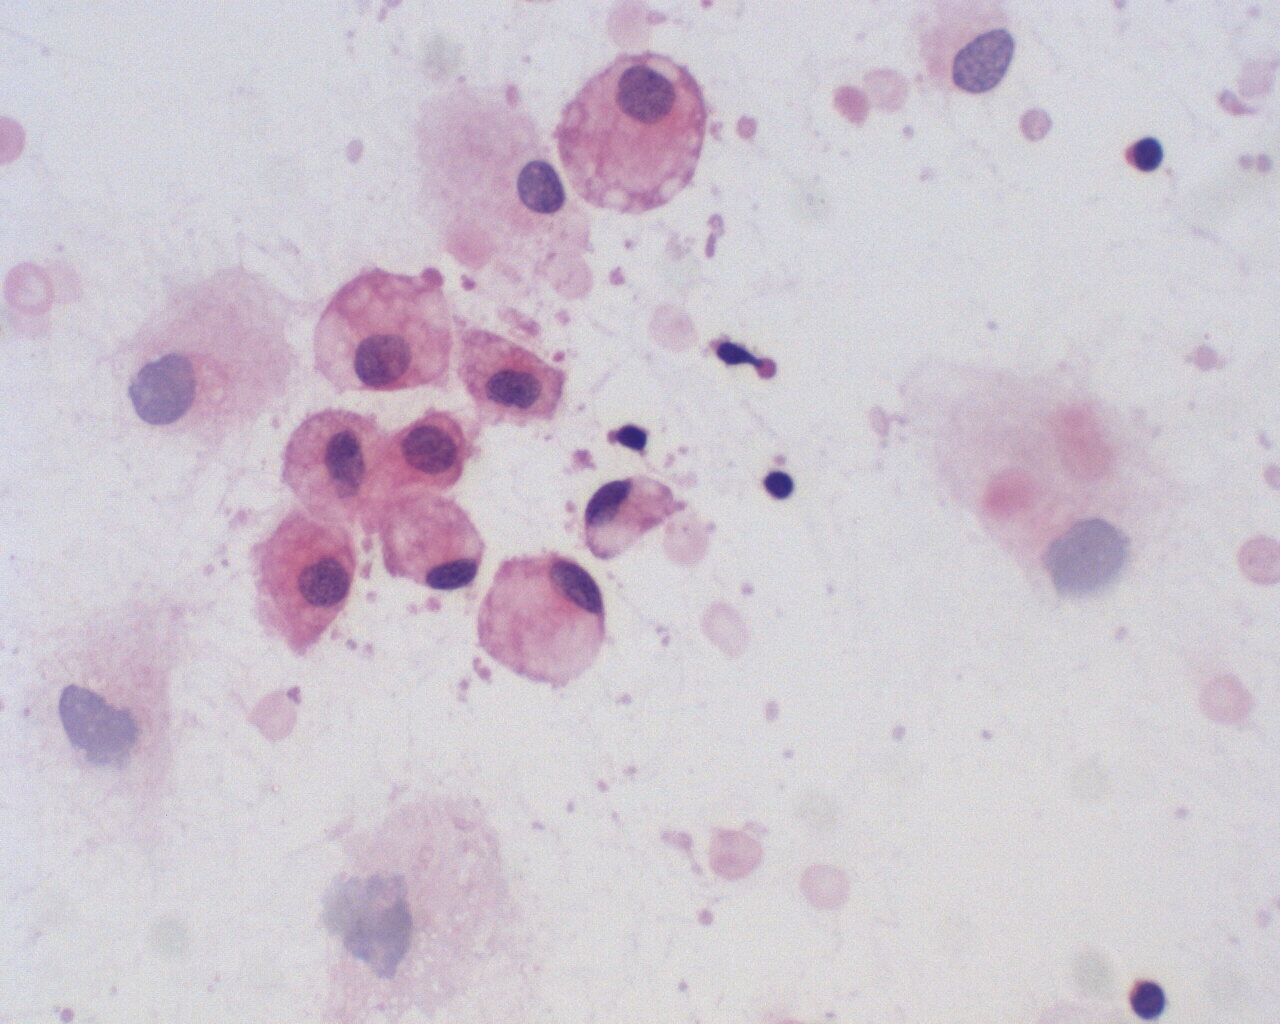histo: (554, 54, 711, 217), (309, 262, 458, 400), (471, 556, 615, 694), (372, 486, 492, 594)
lymph: (757, 466, 802, 509)
meso: (243, 514, 365, 650), (382, 408, 478, 496)
